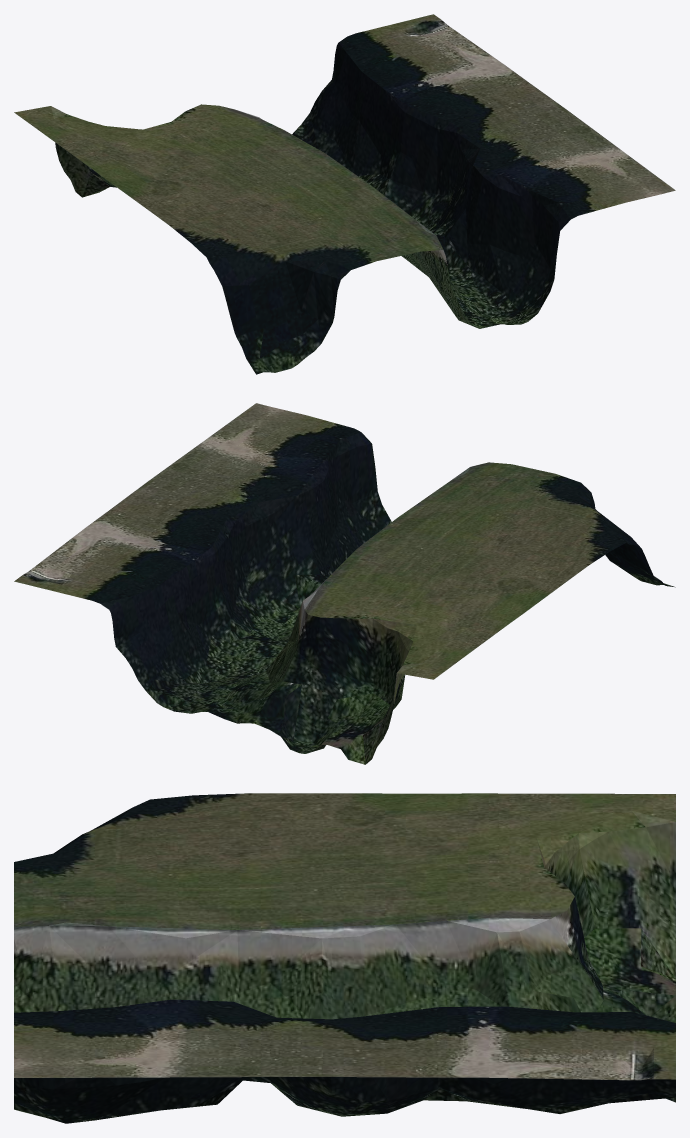
File: map_15_8178_13790.dae
3 renders of one model, top to bottom at view 1: azimuth 30°, elevation 25°; view 2: azimuth 150°, elevation 25°; view 3: azimuth 270°, elevation 25°, orthographic. The views are drawn at different scales.
Parts seen in each view (by area): view 1: Ter0; view 2: Ter0; view 3: Ter0.
Part boxes in pixels (x1,y1,x2,y2): Ter0: [14, 14, 675, 374]; Ter0: [14, 403, 675, 764]; Ter0: [14, 793, 675, 1123].
Size of the model in its own units: 63.88 by 63.88 by 16.23.
3 materials, 3 textured.
